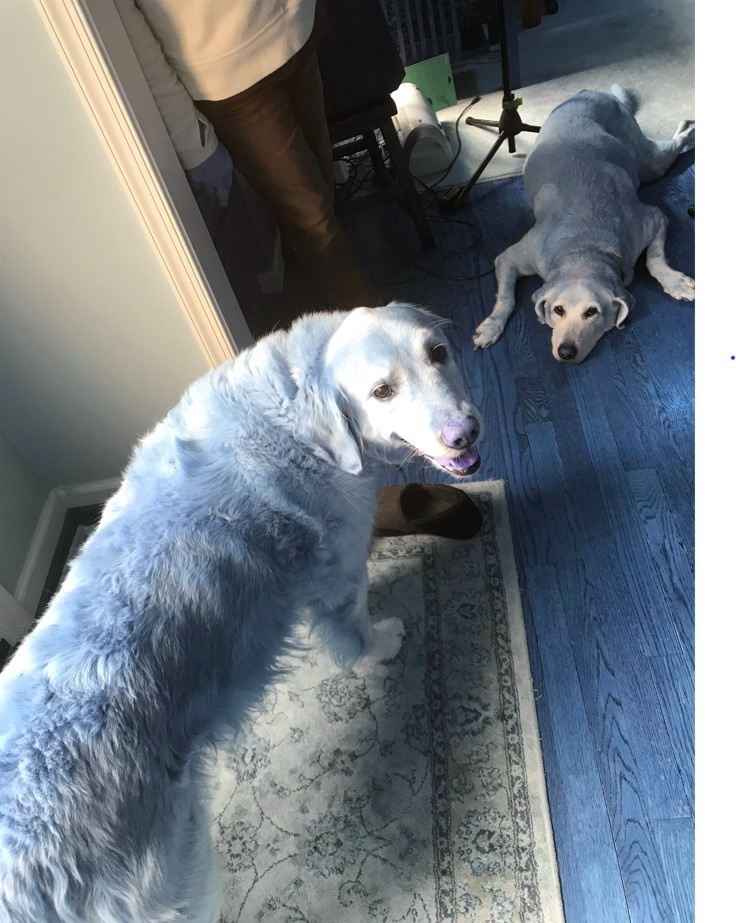bella: (311, 301, 487, 481)
